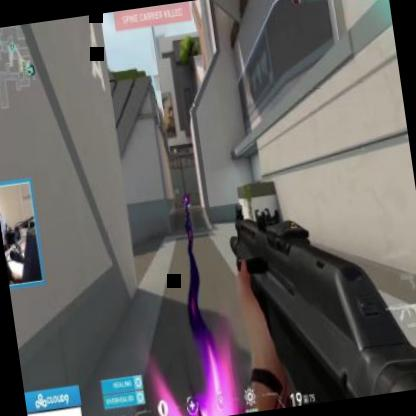enemy: (170, 188, 176, 206)
enemy_head: (172, 189, 174, 193)
